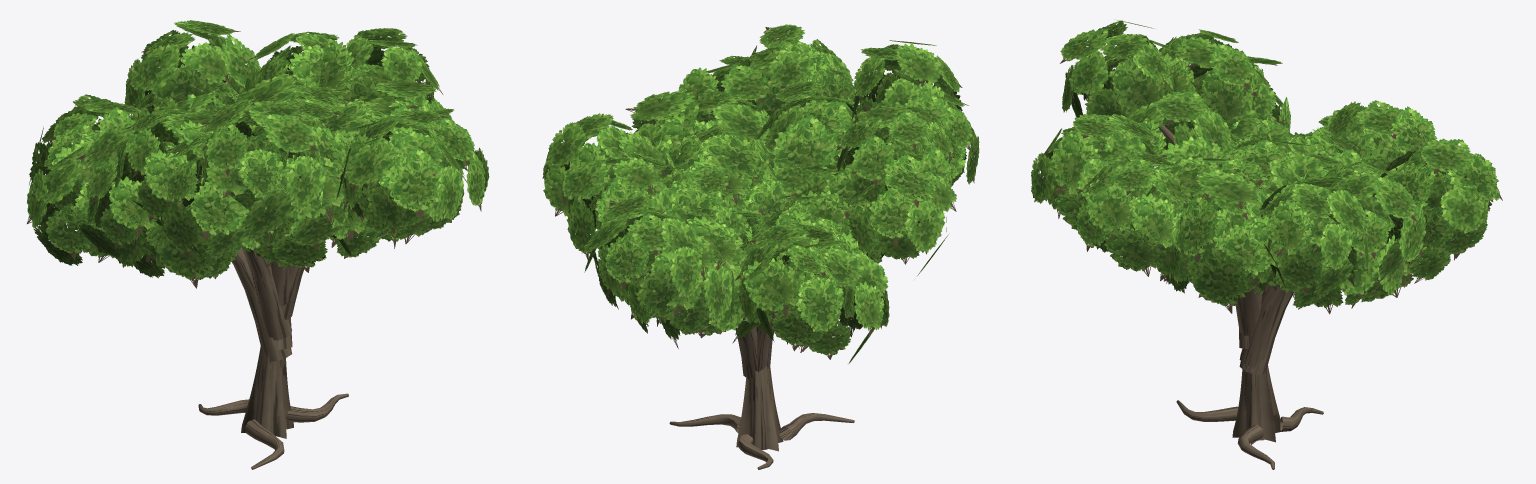
Rendered from mango-tree.glb.
3 views of the same model, side by side, from view 1: azimuth 30°, elevation 25°; view 2: azimuth 150°, elevation 25°; view 3: azimuth 270°, elevation 25° (orthographic). The views are drawn at different scales.
Parts seen in each view (by area): view 1: BigTree-mango-tree; view 2: BigTree-mango-tree; view 3: BigTree-mango-tree.
Part boxes in pixels (left/top/right/bottom): BigTree-mango-tree: left=27, top=20, right=489, bottom=469; BigTree-mango-tree: left=542, top=24, right=979, bottom=469; BigTree-mango-tree: left=1031, top=19, right=1502, bottom=469.
Bounding box in the file's own units: 12.68 × 12 × 14.32.
Materials: 1 (1 with a texture image).
